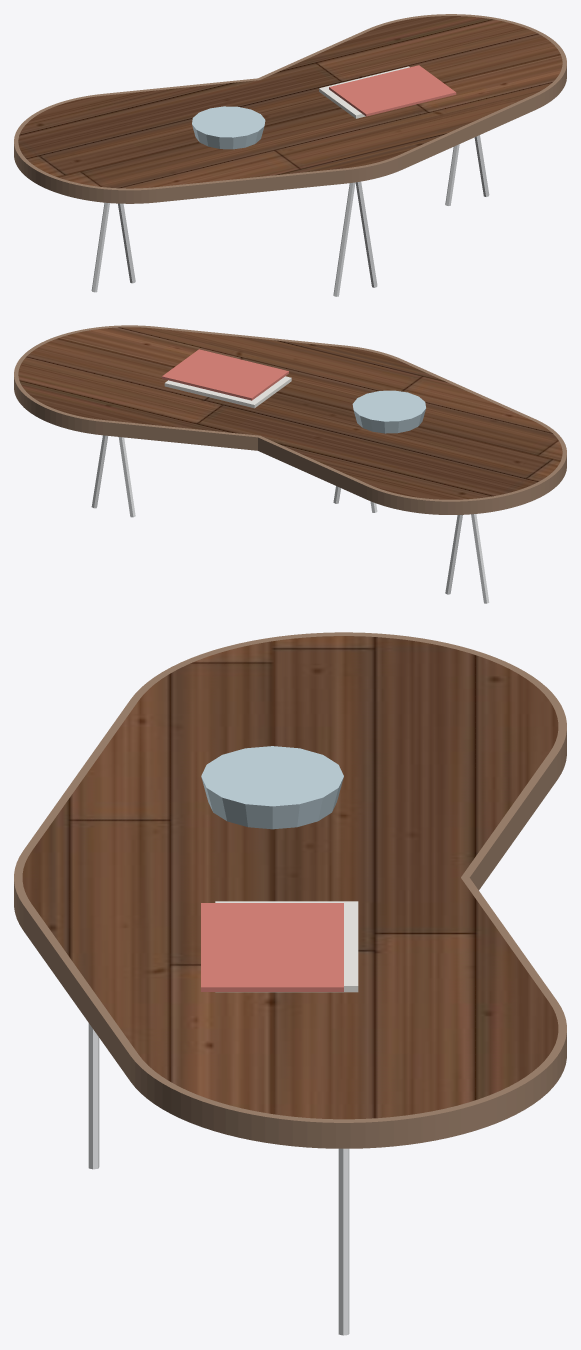
File: coffee_table.glb
The picture shows the model from 3 angles, top to bottom: view 1: azimuth 30°, elevation 25°; view 2: azimuth 150°, elevation 25°; view 3: azimuth 270°, elevation 25°; orthographic projection. The views are drawn at different scales.
Parts seen in each view (by area): view 1: coffee_table_walnut, coffee_table_dkwood, coffee_table_red, coffee_table_chrome, coffee_table_glass, coffee_table_paper; view 2: coffee_table_walnut, coffee_table_dkwood, coffee_table_red, coffee_table_glass, coffee_table_chrome, coffee_table_paper; view 3: coffee_table_walnut, coffee_table_dkwood, coffee_table_red, coffee_table_glass, coffee_table_chrome, coffee_table_paper.
Boxes of the visible parts, left/top/right/bottom form: coffee_table_walnut: left=18, top=16, right=562, bottom=188; coffee_table_dkwood: left=14, top=14, right=566, bottom=203; coffee_table_red: left=329, top=65, right=456, bottom=116; coffee_table_chrome: left=91, top=135, right=489, bottom=296; coffee_table_glass: left=192, top=106, right=265, bottom=149; coffee_table_paper: left=319, top=66, right=409, bottom=118; coffee_table_walnut: left=18, top=327, right=562, bottom=499; coffee_table_dkwood: left=14, top=325, right=566, bottom=514; coffee_table_red: left=162, top=349, right=288, bottom=400; coffee_table_glass: left=352, top=390, right=425, bottom=433; coffee_table_chrome: left=91, top=435, right=489, bottom=603; coffee_table_paper: left=164, top=376, right=291, bottom=408; coffee_table_walnut: left=22, top=636, right=558, bottom=1119; coffee_table_dkwood: left=14, top=632, right=566, bottom=1148; coffee_table_red: left=201, top=903, right=343, bottom=991; coffee_table_glass: left=201, top=746, right=343, bottom=829; coffee_table_chrome: left=88, top=1023, right=349, bottom=1335; coffee_table_paper: left=215, top=901, right=358, bottom=992.
Size of the model in its own units: 1.62 by 0.4612 by 0.7737.
6 materials, 1 textured.
